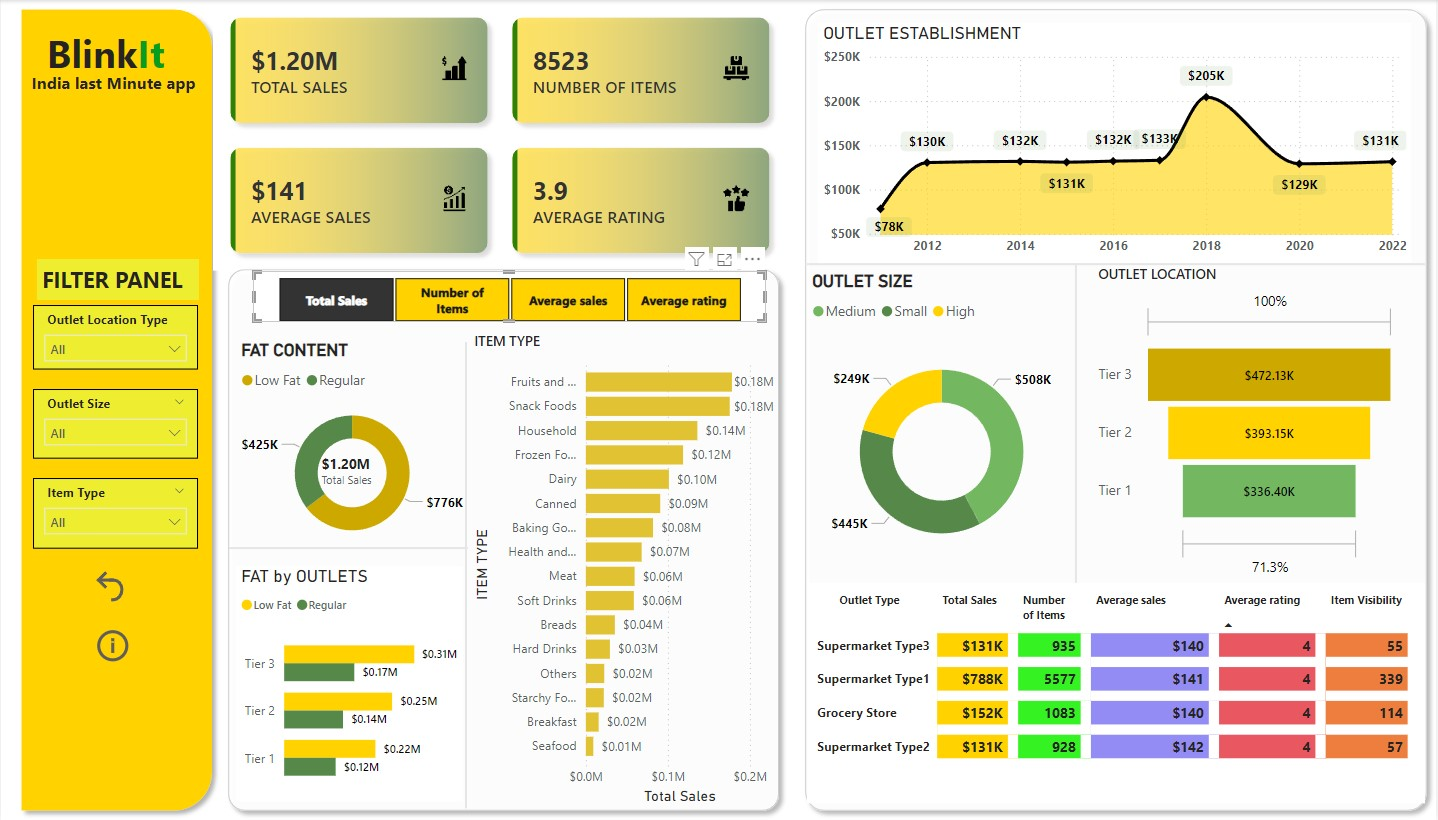

The dashboard page shown, as its layout file describes it:
{"tool":"powerbi","page":{"name":"Blinkit Dashboard","canvas":[1400,800],"ordinal":0},"visuals":[{"type":"shape","box":[10.5,0,204.1,800],"z":0},{"type":"textbox","box":[0,21,204.1,60],"z":1000},{"type":"textbox","box":[18,64.5,184.6,37.5],"z":2000},{"type":"cardVisual","fields":{"Data":["BlinkIT Grocery Data.Toatal Sales","BlinkIT Grocery Data.Number of Items","BlinkIT Grocery Data.Average sales","BlinkIT Grocery Data.Average rating"]},"box":[207.1,0,561.3,264.2],"z":3000},{"type":"shape","box":[213.1,253.6,555.3,546.3],"z":4000},{"type":"donutChart","title":"FAT CONTENT","fields":{"Y":["BlinkIT Grocery Data.Total Sales"],"Category":["BlinkIT Grocery Data.Item Fat Content"]},"box":[229.6,331.7,226.6,211.6],"z":5000},{"type":"slicer","fields":{"Values":["Metrics.Metrics"]},"box":[246.1,264.2,499.8,49.5],"z":6000},{"type":"cardVisual","fields":{"Data":["BlinkIT Grocery Data.Total Sales","BlinkIT Grocery Data.Total Sales"]},"box":[295.7,426.2,108.1,66],"z":7000},{"type":"clusteredBarChart","title":"FAT by OUTLETS","fields":{"Y":["BlinkIT Grocery Data.Total Sales"],"Category":["BlinkIT Grocery Data.Outlet Location Type"],"Series":["BlinkIT Grocery Data.Item Fat Content"]},"box":[229.6,552.3,220.6,229.6],"z":8000},{"type":"shape","box":[222.1,529.8,233.3,9.9],"z":9000},{"type":"shape","box":[440.4,333.7,27.3,455.3],"z":10000},{"type":"shape","box":[775.9,0,624.4,800],"z":11000},{"type":"barChart","title":"ITEM TYPE","fields":{"Y":["BlinkIT Grocery Data.Total Sales"],"Category":["BlinkIT Grocery Data.Item Type"]},"box":[456.3,324.2,319.7,465.3],"z":12000},{"type":"lineChart","title":"OUTLET ESTABLISHMENT","fields":{"Y":["BlinkIT Grocery Data.Total Sales"],"Category":["BlinkIT Grocery Data.Outlet Establishment Year"]},"box":[797,22.5,579.3,235.6],"z":13000},{"type":"shape","box":[786.5,232.6,603.3,51],"z":14000},{"type":"donutChart","title":"OUTLET SIZE","fields":{"Y":["BlinkIT Grocery Data.Total Sales"],"Category":["BlinkIT Grocery Data.Outlet Size"]},"box":[786.5,264.2,262.7,304.7],"z":15000},{"type":"shape","box":[1032.6,256.6,33,312.2],"z":16000},{"type":"funnel","title":"OUTLET LOCATION","fields":{"Y":["Sum(BlinkIT Grocery Data.Sales)"],"Category":["BlinkIT Grocery Data.Outlet Location Type"]},"box":[1065.6,258.1,300.2,310.7],"z":17000},{"type":"pivotTable","fields":{"Rows":["BlinkIT Grocery Data.Outlet Type"],"Values":["BlinkIT Grocery Data.Total Sales","BlinkIT Grocery Data.Number of Items","BlinkIT Grocery Data.Average sales","BlinkIT Grocery Data.Average rating","Sum(BlinkIT Grocery Data.Item Visibility)"]},"box":[786.5,568.8,603.3,214.6],"z":18000},{"type":"slicer","fields":{"Values":["BlinkIT Grocery Data.Outlet Location Type"]},"box":[31,297.8,161.3,63.3],"z":19000},{"type":"slicer","fields":{"Values":["BlinkIT Grocery Data.Outlet Size"]},"box":[31,379.7,161.3,68.2],"z":20000},{"type":"slicer","fields":{"Values":["BlinkIT Grocery Data.Item Type"]},"box":[31,466.5,161.3,69.5],"z":21000},{"type":"textbox","box":[34.7,253.1,157.6,39.7],"z":22000},{"type":"actionButton","box":[86.5,552,50.9,39.4],"z":23000},{"type":"actionButton","box":[88.6,609.4,51,40.5],"z":24000}]}

Visuals, with their boxes in screenshot pixels (x1, y1, x2, y2), scaled from the page's 1400x800 canvas onto the 1438x820 screenshot:
shape: {"left": 11, "top": 0, "right": 220, "bottom": 819}
textbox: {"left": 0, "top": 22, "right": 210, "bottom": 83}
textbox: {"left": 18, "top": 66, "right": 208, "bottom": 105}
cardVisual - BlinkIT Grocery Data.Toatal Sales x BlinkIT Grocery Data.Number of Items: {"left": 213, "top": 0, "right": 789, "bottom": 271}
shape: {"left": 219, "top": 260, "right": 789, "bottom": 819}
"FAT CONTENT" donutChart: {"left": 236, "top": 340, "right": 469, "bottom": 557}
slicer - Metrics.Metrics: {"left": 253, "top": 271, "right": 766, "bottom": 322}
cardVisual - BlinkIT Grocery Data.Total Sales x BlinkIT Grocery Data.Total Sales: {"left": 304, "top": 437, "right": 415, "bottom": 505}
"FAT by OUTLETS" clusteredBarChart: {"left": 236, "top": 566, "right": 462, "bottom": 801}
shape: {"left": 228, "top": 543, "right": 468, "bottom": 553}
shape: {"left": 452, "top": 342, "right": 480, "bottom": 809}
shape: {"left": 797, "top": 0, "right": 1437, "bottom": 819}
"ITEM TYPE" barChart: {"left": 469, "top": 332, "right": 797, "bottom": 809}
"OUTLET ESTABLISHMENT" lineChart: {"left": 819, "top": 23, "right": 1414, "bottom": 265}
shape: {"left": 808, "top": 238, "right": 1428, "bottom": 291}
"OUTLET SIZE" donutChart: {"left": 808, "top": 271, "right": 1078, "bottom": 583}
shape: {"left": 1061, "top": 263, "right": 1095, "bottom": 583}
"OUTLET LOCATION" funnel: {"left": 1095, "top": 265, "right": 1403, "bottom": 583}
pivotTable - BlinkIT Grocery Data.Outlet Type x BlinkIT Grocery Data.Total Sales: {"left": 808, "top": 583, "right": 1428, "bottom": 803}
slicer - BlinkIT Grocery Data.Outlet Location Type: {"left": 32, "top": 305, "right": 198, "bottom": 370}
slicer - BlinkIT Grocery Data.Outlet Size: {"left": 32, "top": 389, "right": 198, "bottom": 459}
slicer - BlinkIT Grocery Data.Item Type: {"left": 32, "top": 478, "right": 198, "bottom": 549}
textbox: {"left": 36, "top": 259, "right": 198, "bottom": 300}
actionButton: {"left": 89, "top": 566, "right": 141, "bottom": 606}
actionButton: {"left": 91, "top": 625, "right": 143, "bottom": 666}
